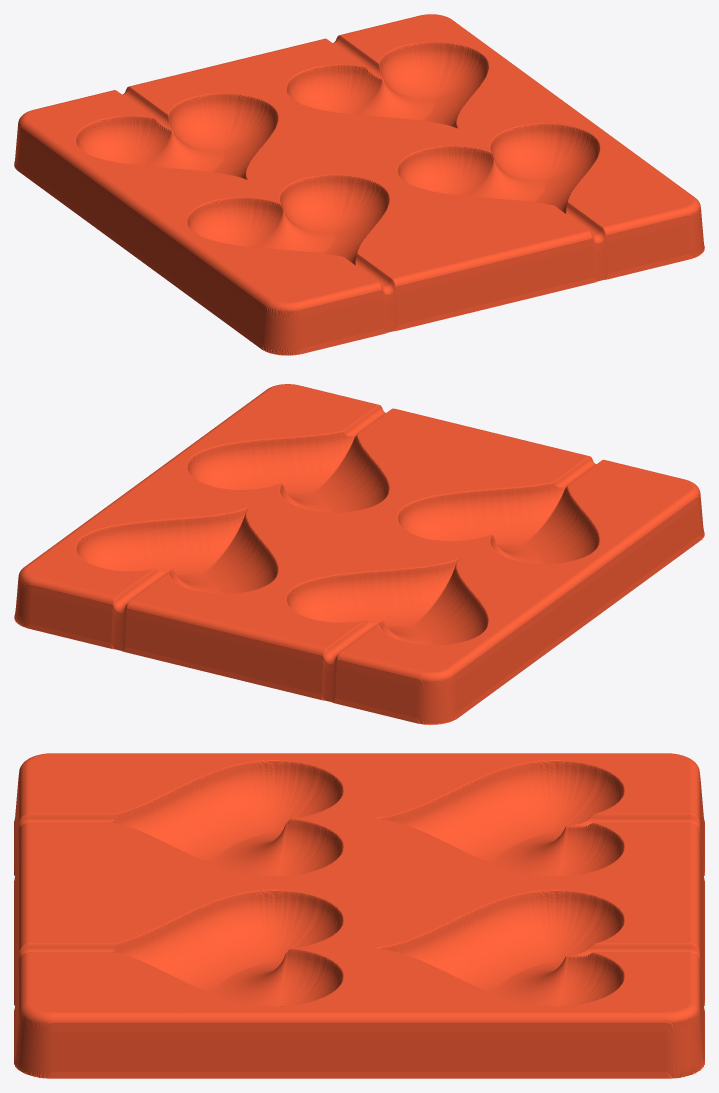
The model's file is mold.glb.
The picture shows the model from 3 angles, top to bottom: view 1: azimuth 30°, elevation 25°; view 2: azimuth 150°, elevation 25°; view 3: azimuth 270°, elevation 25°; orthographic projection. The views are drawn at different scales.
Visible parts, largest first — view 1: geometry_0; view 2: geometry_0; view 3: geometry_0.
Boxes of the visible parts, x1,y1,x2,y2 form: geometry_0: [14, 14, 704, 355]; geometry_0: [14, 384, 704, 724]; geometry_0: [14, 753, 704, 1078].
Size of the model in its own units: 0.1497 by 0.0155 by 0.1613.
